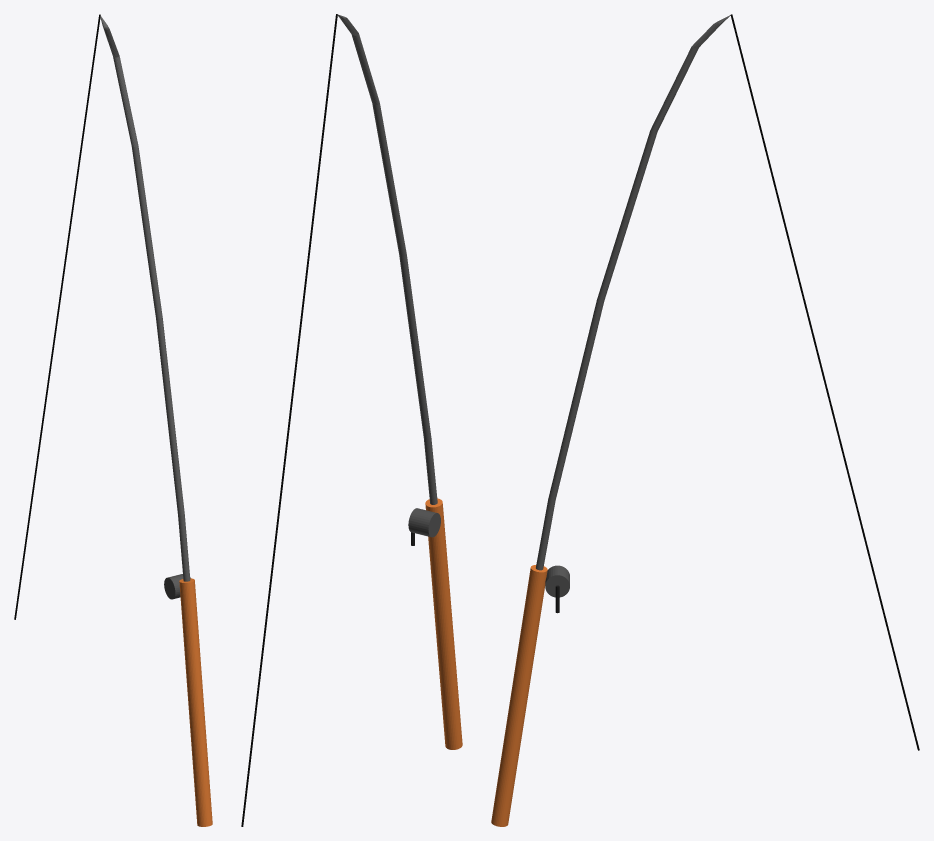
Rendered from turizao.fbx.
The picture shows the model from 3 angles, left to right: view 1: azimuth 30°, elevation 25°; view 2: azimuth 150°, elevation 25°; view 3: azimuth 270°, elevation 25°; orthographic projection. The views are drawn at different scales.
Parts seen in each view (by area): view 1: 円柱, 円柱.001, 円柱.004; view 2: 円柱.001, 円柱, 円柱.004, 円柱.002; view 3: 円柱, 円柱.001, 円柱.004.
Part boxes in pixels (box(x1,y1,x2,y2)): 円柱: box(99, 14, 190, 581); 円柱.001: box(179, 578, 212, 826); 円柱.004: box(14, 14, 100, 619); 円柱.001: box(425, 498, 462, 749); 円柱: box(337, 14, 437, 504); 円柱.004: box(241, 14, 337, 826); 円柱.002: box(408, 508, 440, 537); 円柱: box(536, 14, 731, 570); 円柱.001: box(491, 565, 547, 826); 円柱.004: box(730, 14, 919, 750).
Bounding box in the file's own units: 28 × 936 × 449.
